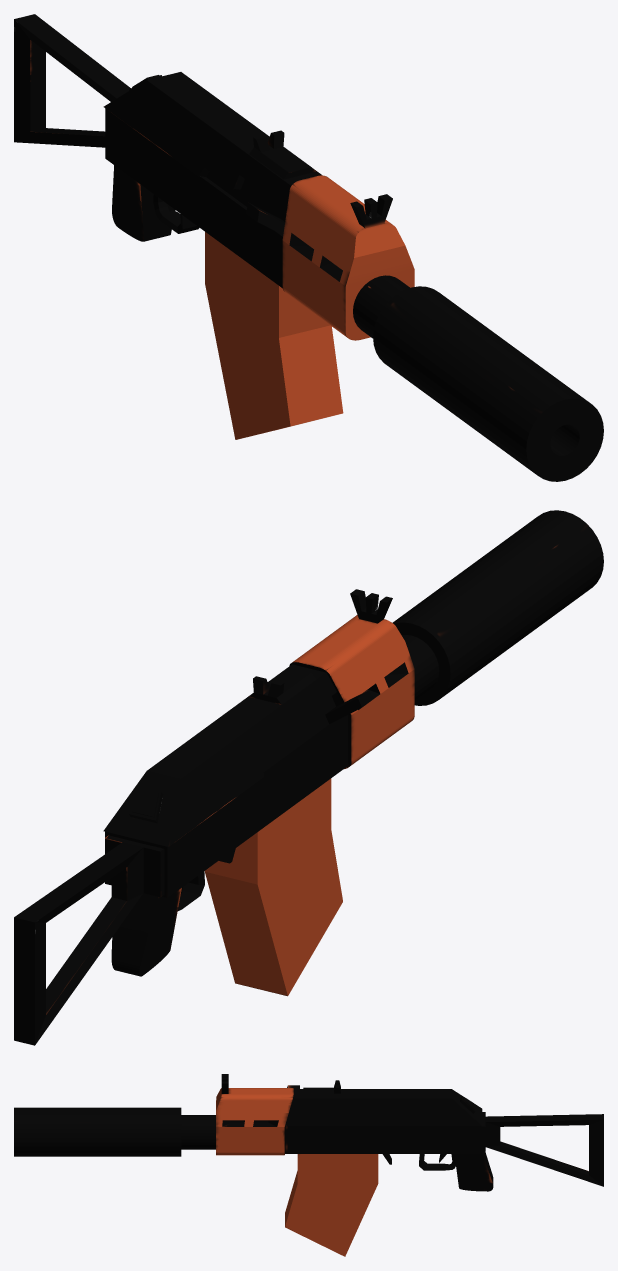
Rendered from Nastya kalak.fbx.
3 renders of one model, top to bottom at view 1: azimuth 30°, elevation 25°; view 2: azimuth 150°, elevation 25°; view 3: azimuth 270°, elevation 25°, orthographic. The views are drawn at different scales.
Parts seen in each view (by area): view 1: Cube; view 2: Cube; view 3: Cube.
Part boxes in pixels (box(x1,y1,x2,y2)): Cube: box(14, 14, 603, 481); Cube: box(14, 510, 603, 1045); Cube: box(14, 1074, 603, 1256).
Bounding box in the file's own units: 310 × 956 × 2989.
